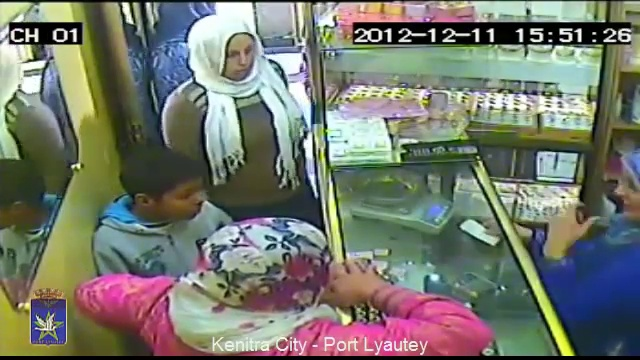face: (208, 32, 259, 79), (156, 182, 209, 220), (612, 158, 640, 221)
